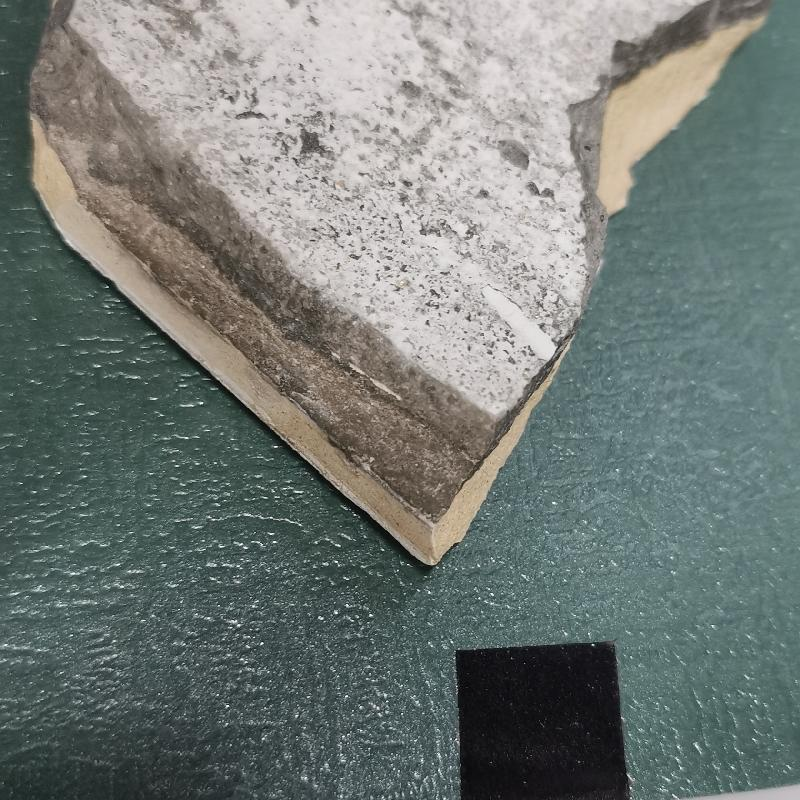tile: (20, 14, 790, 570)
